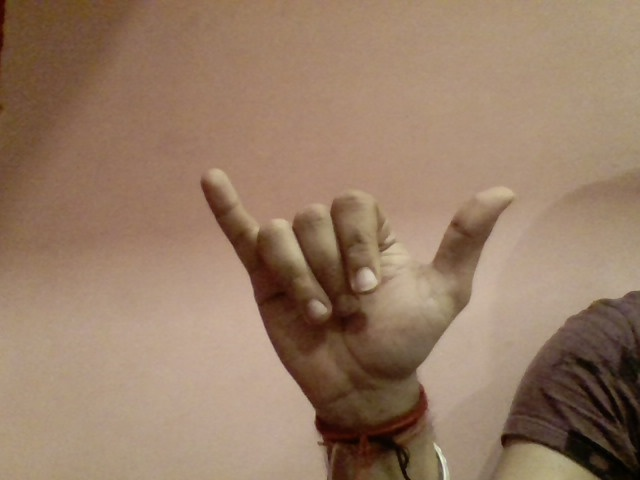y: (181, 145, 524, 408)
